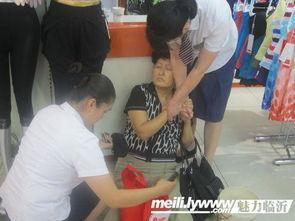Fall-Detected: (96, 42, 200, 221)
